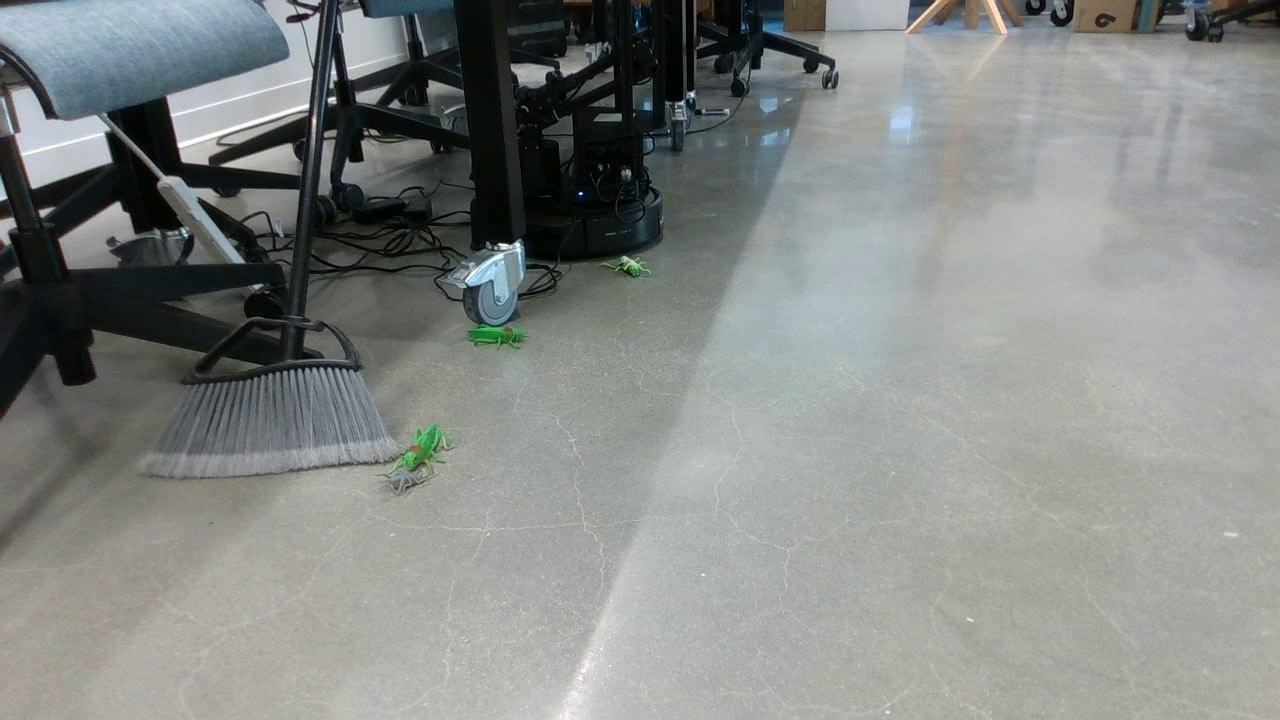grasshopper: (399, 420, 453, 471), (458, 326, 529, 353), (611, 254, 646, 274)
